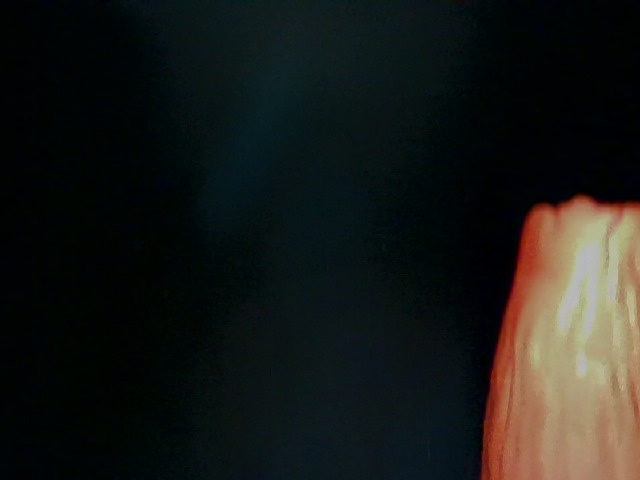QTLJ: (355, 200, 504, 390)
